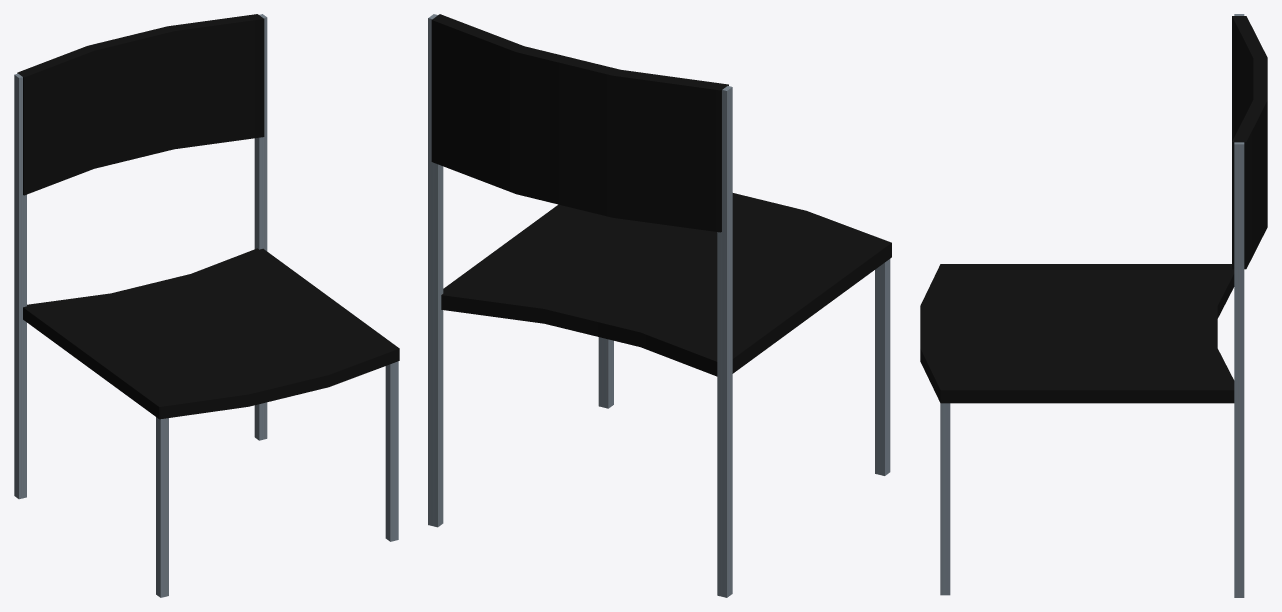
File: Silla1b.fbx
3 views of the same model, side by side, from view 1: azimuth 30°, elevation 25°; view 2: azimuth 150°, elevation 25°; view 3: azimuth 270°, elevation 25° (orthographic). The views are drawn at different scales.
Visible parts, largest first — view 1: SillaNegra; view 2: SillaNegra; view 3: SillaNegra.
Boxes of the visible parts, x1,y1,x2,y2 form: SillaNegra: [14, 14, 399, 597]; SillaNegra: [428, 14, 891, 597]; SillaNegra: [920, 14, 1267, 597].
Size of the model in its own units: 50.46 by 81.85 by 56.81.
